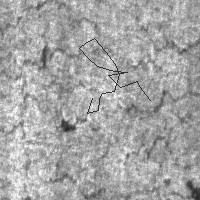crazing: (5, 1, 198, 70), (107, 32, 200, 126), (76, 111, 200, 181), (1, 65, 101, 136), (79, 38, 150, 113)
